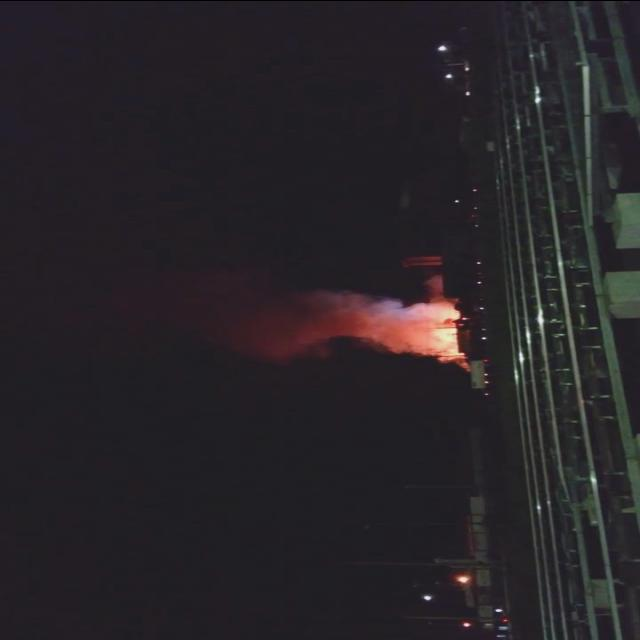Fire: (432, 307, 460, 361)
